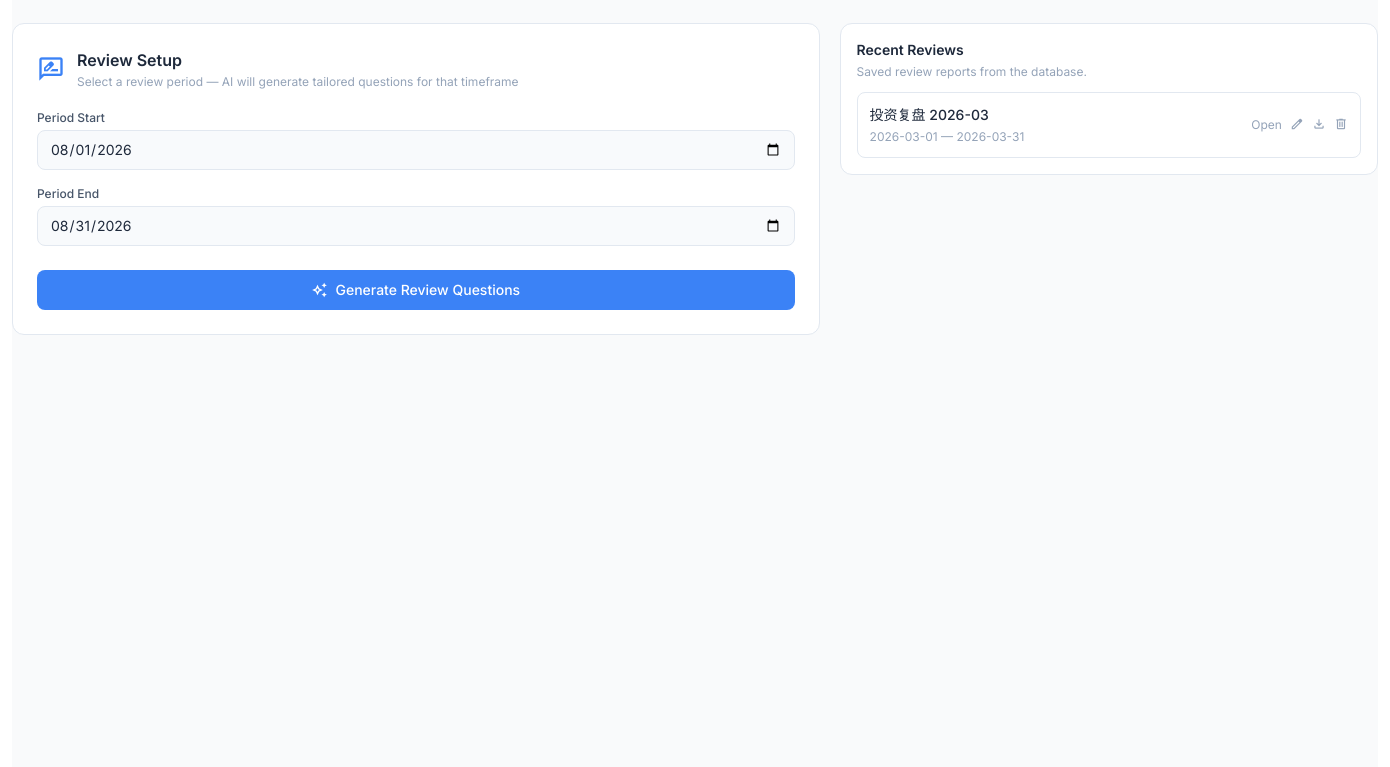
Test: AI Advisor debug logs › renders the review completion debug log with prompt and raw response text
Click the button "Generate Review Questions". click: (416, 290)
box: x1=37 y1=270 x2=795 y2=310
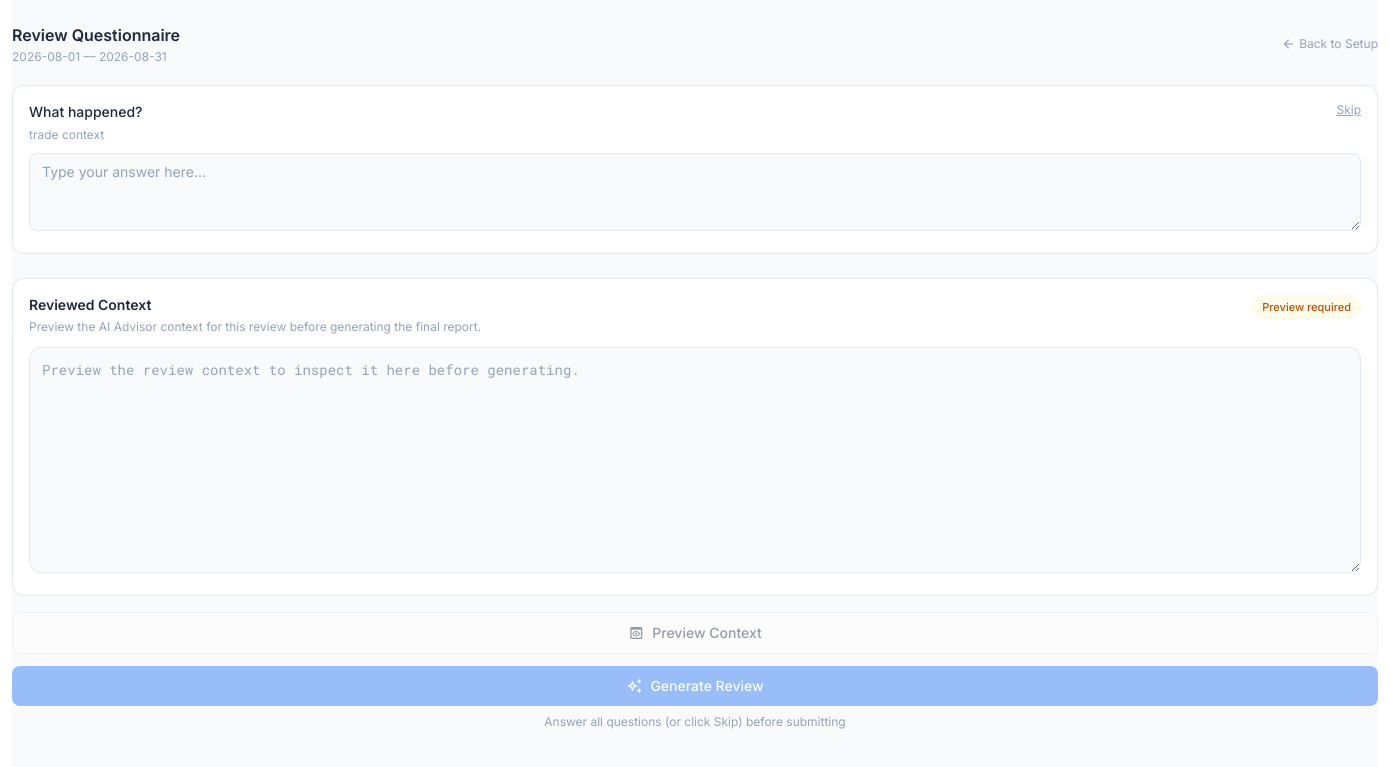
Check: the text "What happened?" is shown, box x1=29 y1=103 x2=142 y2=120
Type "Because the setup changed." into the text box with placeholder "Type your answer here...". click: (695, 192)
box: x1=29 y1=153 x2=1361 y2=231
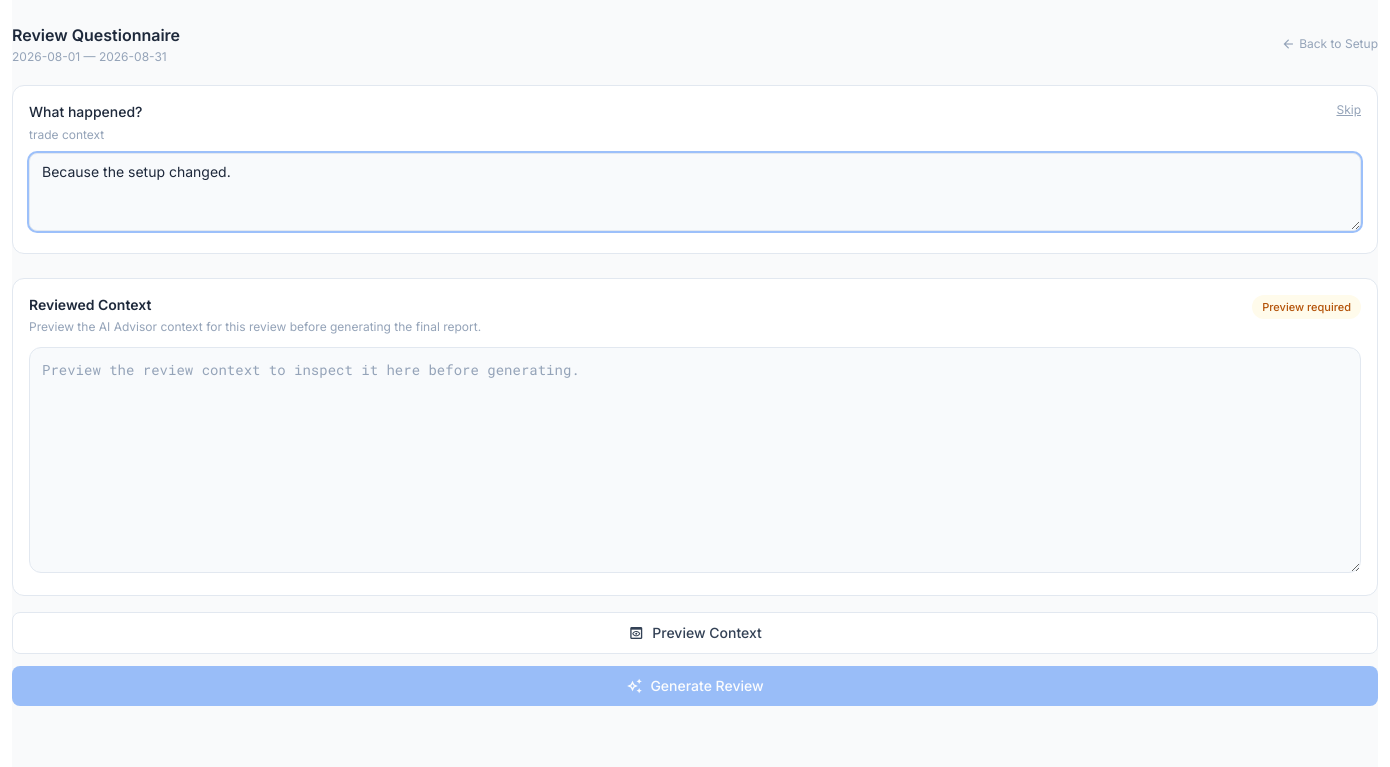
Click the button "Preview Context". click: (695, 633)
box: x1=12 y1=612 x2=1378 y2=654
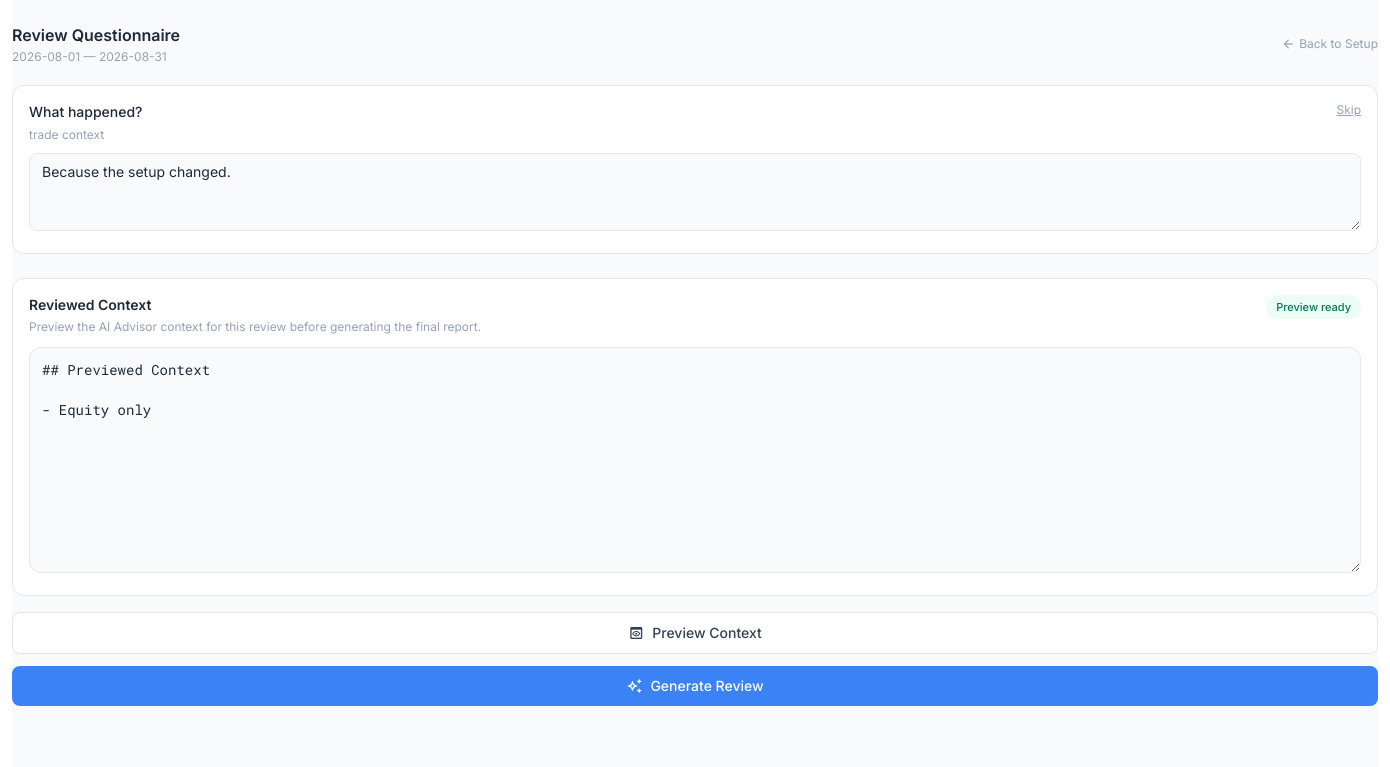
Click the button "Generate Review". click: (695, 686)
box: x1=12 y1=666 x2=1378 y2=706
(page scrolled)
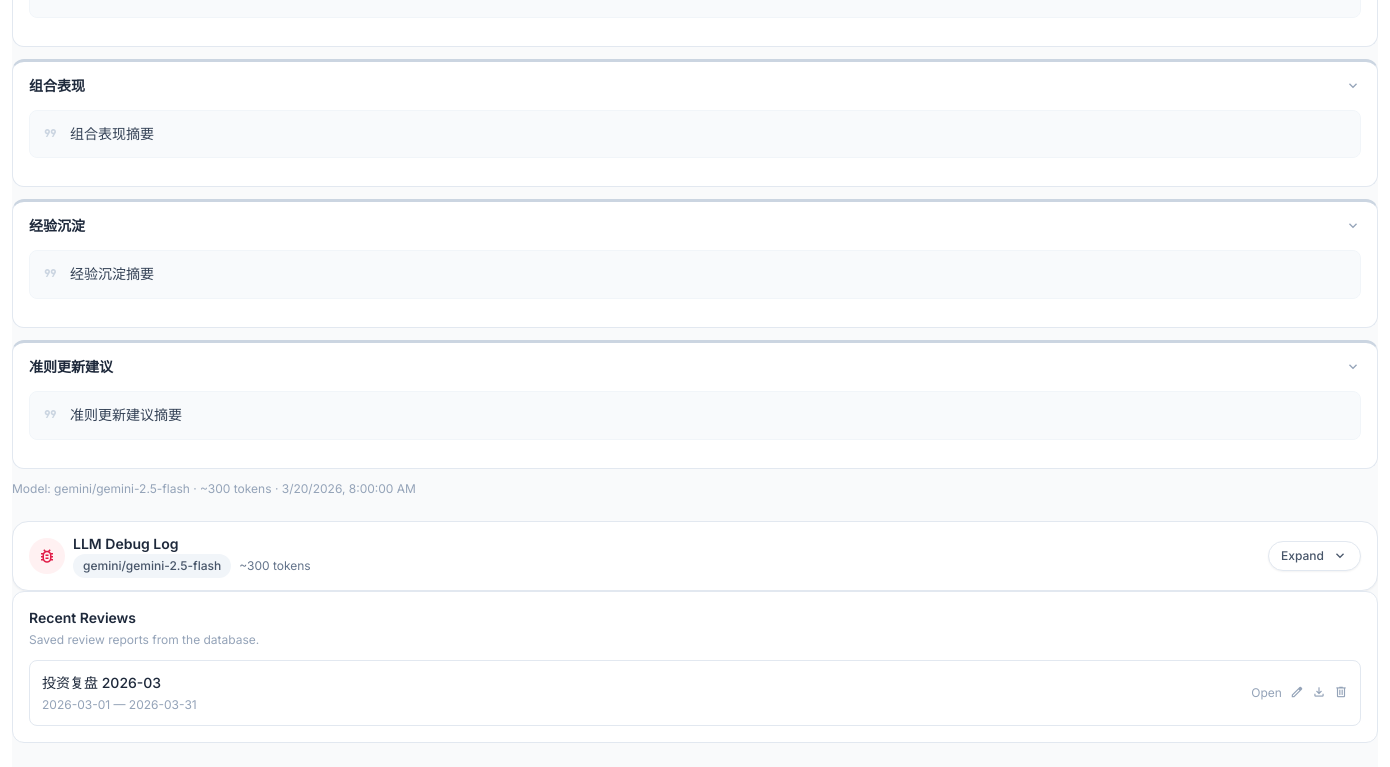
Click the button "LLM Debug Log gemini/gemini-2.5-flash ~300 tokens Expand". click: (47, 556)
box: x1=13 y1=522 x2=1377 y2=590
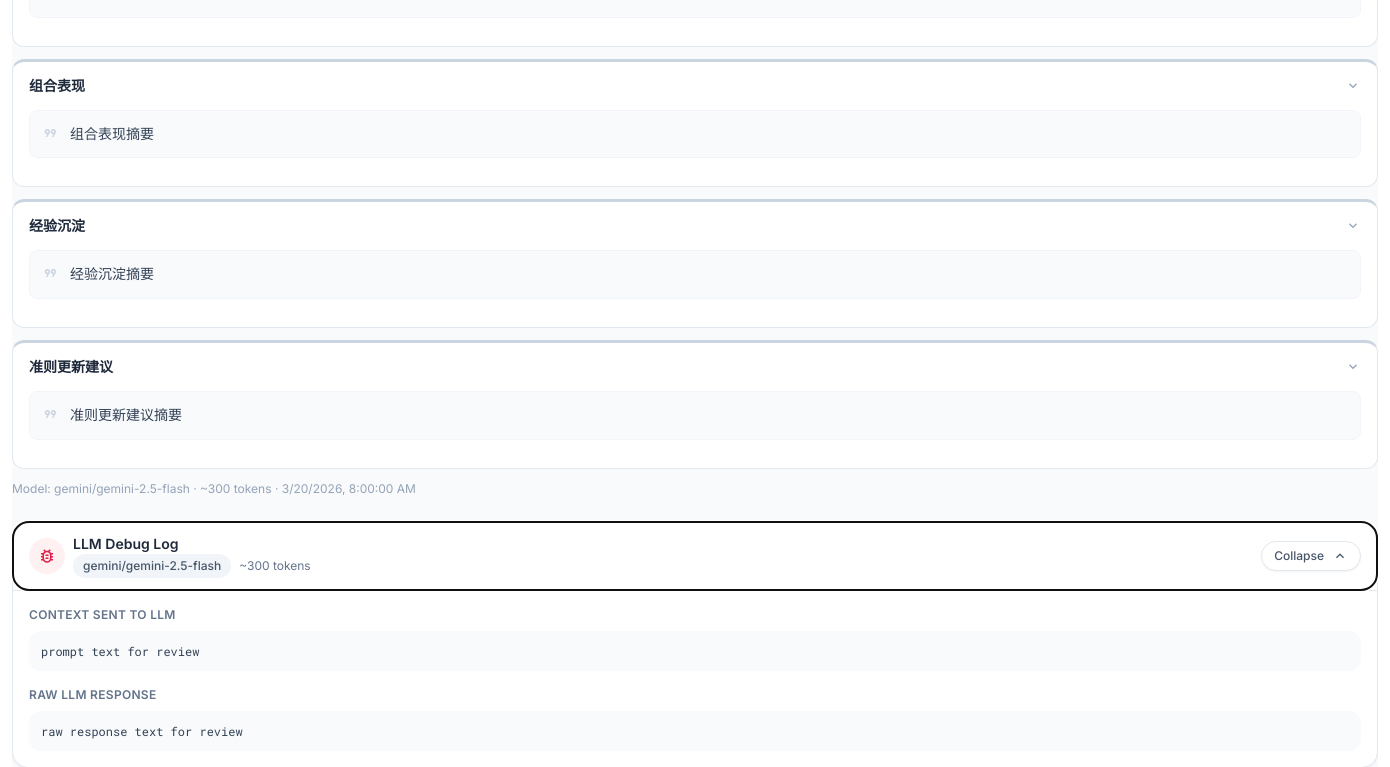
Check: the text "prompt text for review" is shown, box x1=29 y1=631 x2=1361 y2=671
Check: the text "raw response text for review" is shown, box x1=29 y1=711 x2=1361 y2=751
